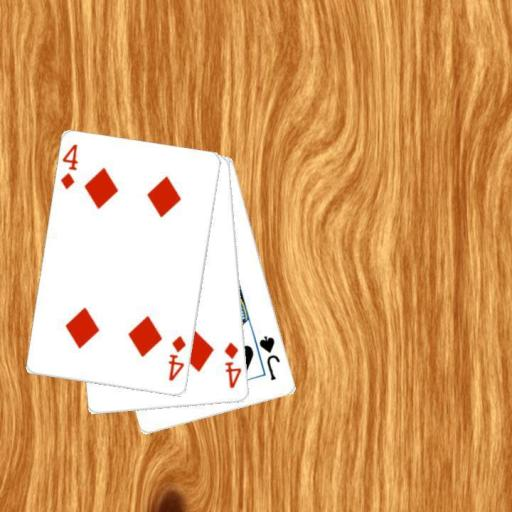card-corner: (256, 333, 282, 382), (166, 333, 188, 383), (58, 142, 80, 192), (222, 340, 243, 390)
